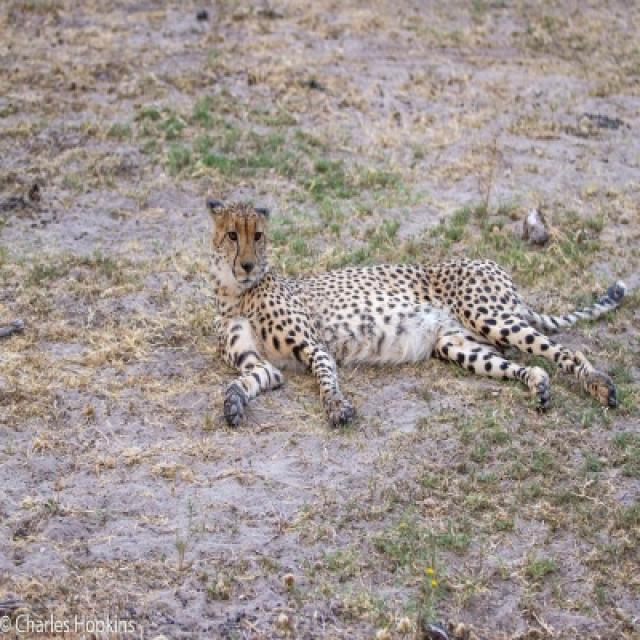Cheetah: (210, 198, 626, 424)
